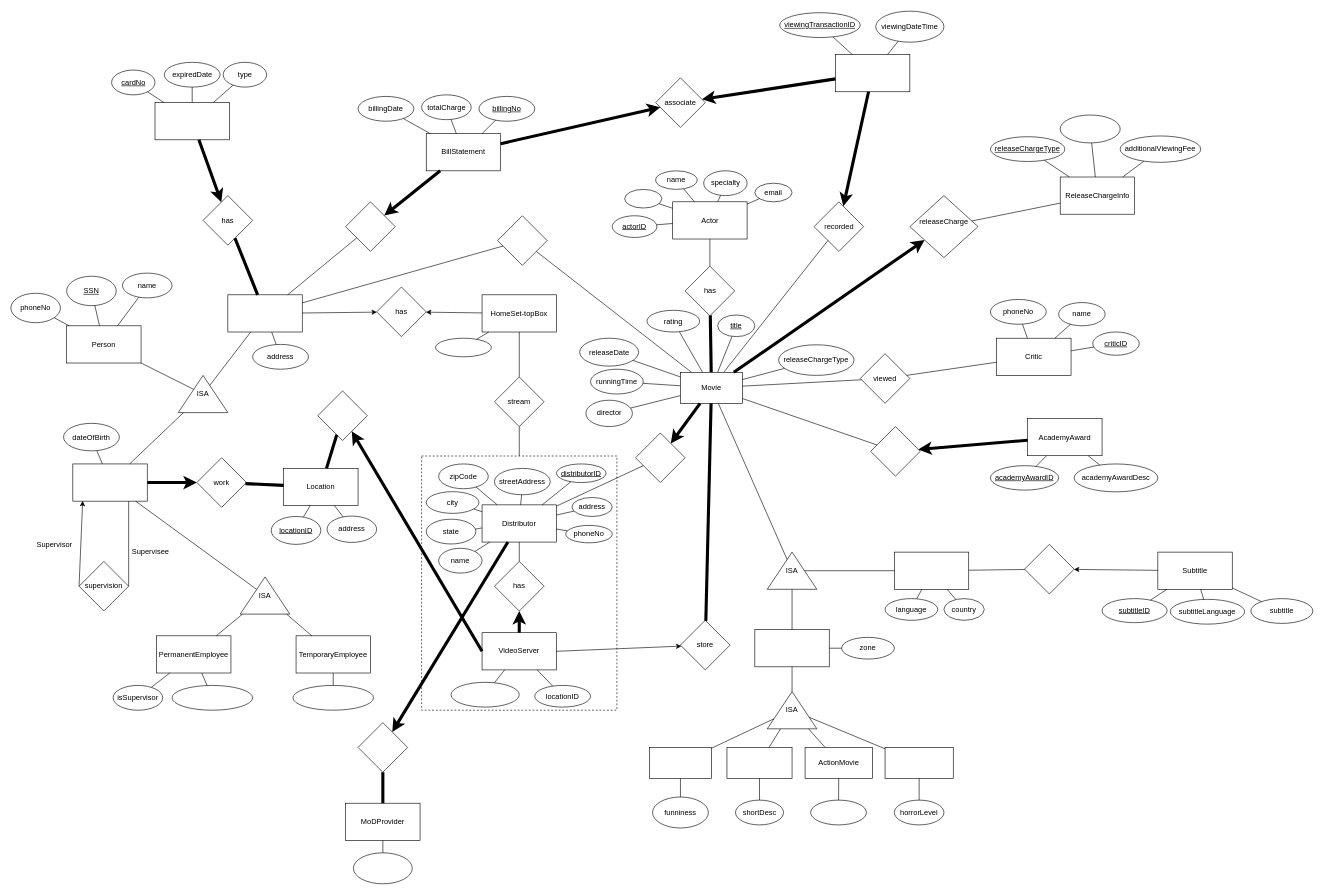
This 1324x895 diagram has some shape labels left out. Here are the shapes that lost their labels. From the top down, the centre of each, then its label:
the point at 872,73: ViewingTransaction
the point at 191,121: CreditCard
the point at 1090,128: firstViewingFee
the point at 643,198: age
the point at 370,226: receive
the point at 522,240: request
the point at 264,313: Customer
the point at 463,347: set-topBoxID
the point at 342,415: located
the point at 660,457: supply
the point at 895,451: won
the point at 109,482: Employee
the point at 931,570: ForeignMovie
the point at 1049,569: provide
the point at 791,648: DomesticMovie
the point at 212,697: permanentEmpSalary
the point at 333,697: temoporaryEmpSalary
the point at 484,694: videoServerID
the point at 382,747: track
the point at 680,762: ComedyMovie
the point at 759,762: DramaMovie
the point at 918,762: HorrorMovie
the point at 838,812: ageRestrict
the point at 382,868: MoDProviderID
